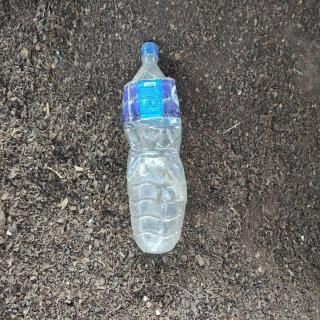Plastic-bottle: (120, 40, 191, 259)
